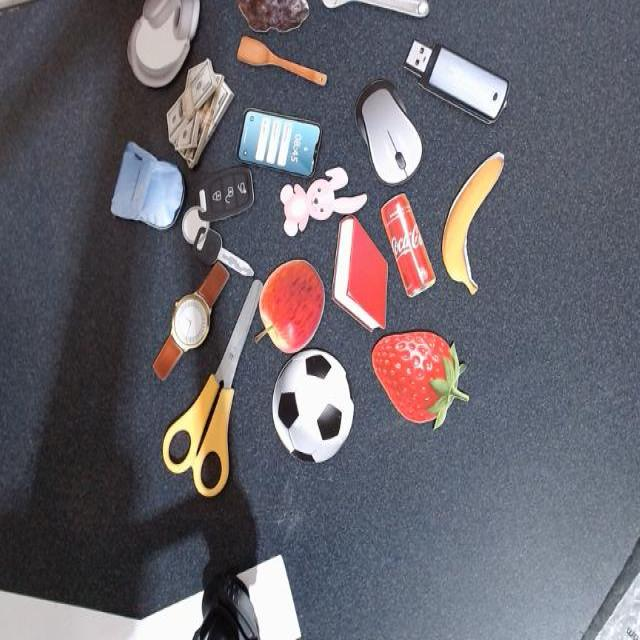Other Objects: (156, 262, 261, 502), (138, 259, 243, 382), (399, 29, 512, 130), (343, 68, 431, 197), (105, 138, 192, 245), (441, 152, 505, 295), (273, 351, 353, 462), (166, 59, 234, 168), (182, 168, 254, 268), (234, 30, 328, 104), (127, 0, 201, 88), (255, 261, 324, 353), (279, 167, 367, 236), (237, 109, 321, 176), (381, 194, 435, 297), (236, 1, 310, 33), (321, 1, 428, 16)
